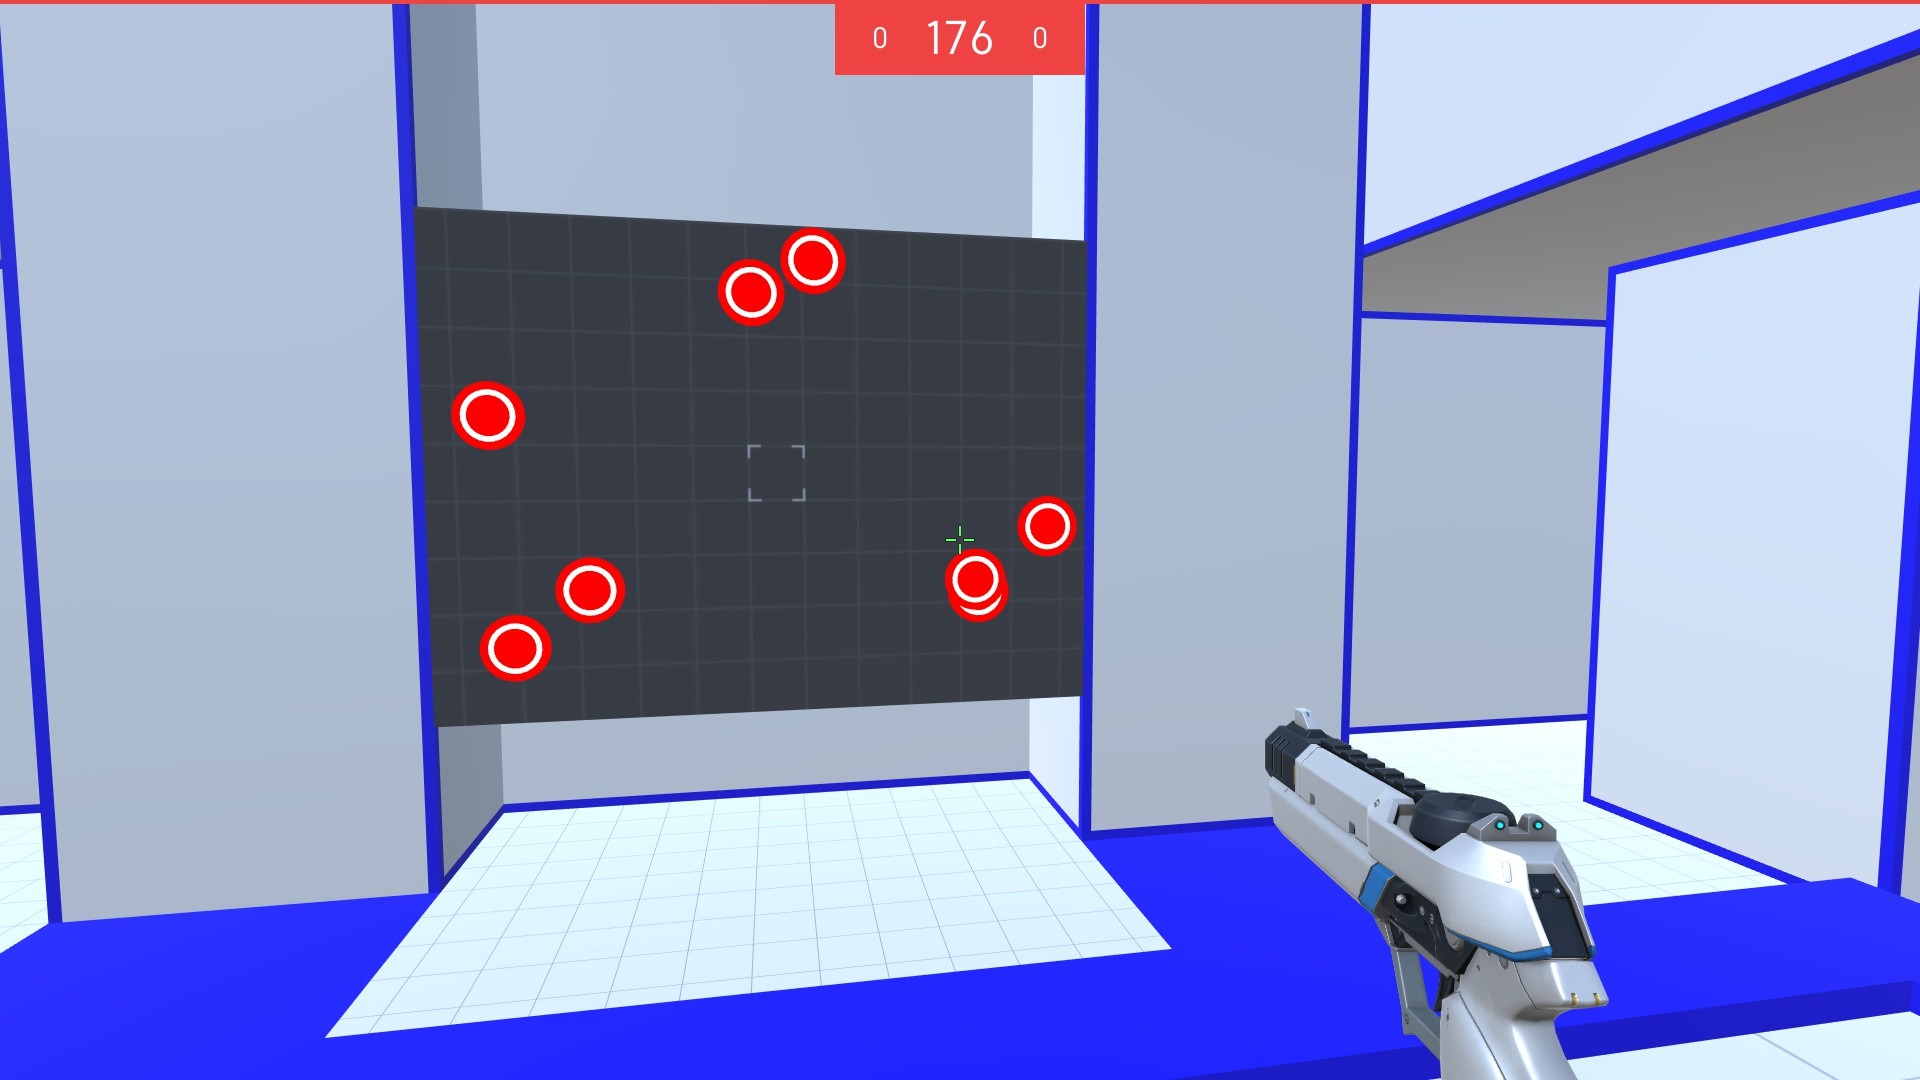target: (446, 378, 529, 452), (473, 613, 556, 683), (709, 255, 789, 326), (553, 556, 629, 626), (785, 225, 851, 294), (1018, 495, 1077, 560), (944, 545, 1005, 605)
